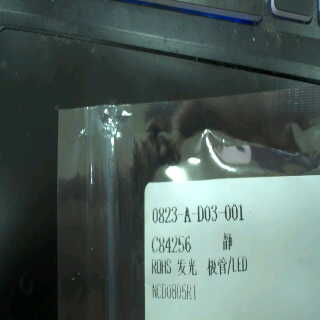LED: (170, 253, 247, 278)
